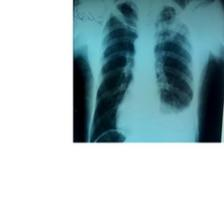tuberculosis: (88, 1, 198, 142)
